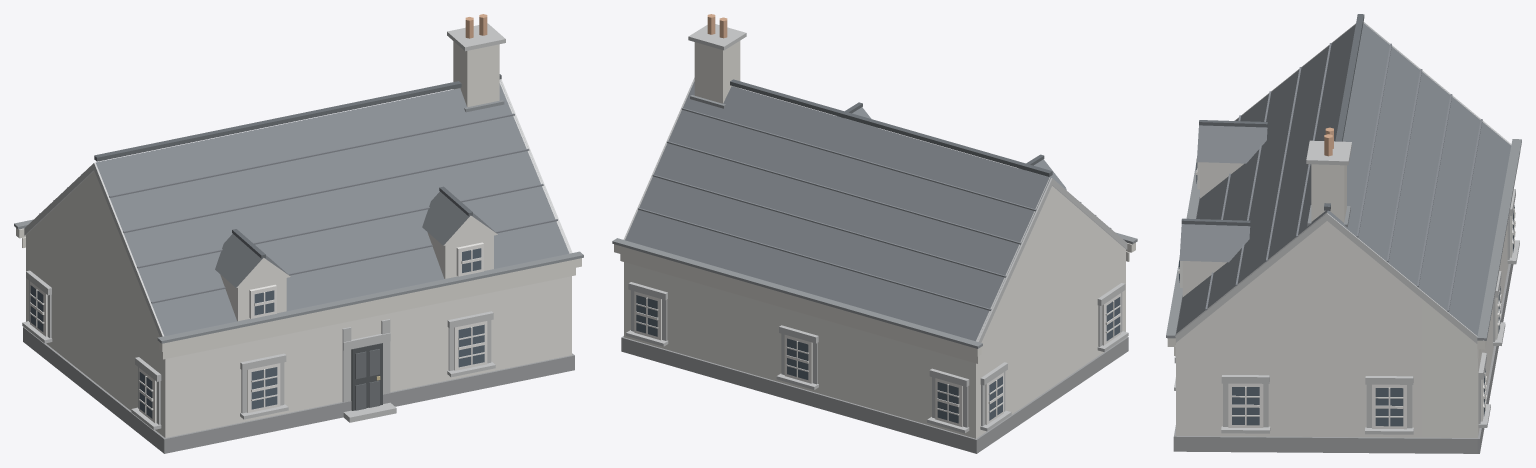
The picture shows the model from 3 angles, left to right: view 1: azimuth 30°, elevation 25°; view 2: azimuth 150°, elevation 25°; view 3: azimuth 270°, elevation 25°; orthographic projection. The views are drawn at different scales.
Parts seen in each view (by area): view 1: slate, harl, stone_band, plinth, string, slate_lt, frame, lead, slate_dk, chim_render, door_dark_p, door_dark (+2 smaller); view 2: slate, harl, plinth, stone_band, string, slate_lt, lead, frame, slate_dk, chim_render, window_glass_009, window_glass_008 (+1 smaller); view 3: slate, harl, stone_band, plinth, slate_lt, lead, frame, slate_dk, chim_render, window_glass_006, window_glass_005.
Part boxes in pixels (left/top/right/bottom): slate: left=95, top=80, right=569, bottom=336; harl: left=26, top=171, right=571, bottom=437; stone_band: left=22, top=23, right=572, bottom=429; plinth: left=23, top=327, right=574, bottom=453; string: left=16, top=228, right=581, bottom=359; slate_lt: left=39, top=113, right=557, bottom=303; frame: left=30, top=242, right=487, bottom=423; lead: left=14, top=100, right=583, bottom=343; slate_dk: left=94, top=74, right=501, bottom=258; chim_render: left=453, top=41, right=499, bottom=107; door_dark_p: left=355, top=349, right=379, bottom=410; door_dark: left=351, top=343, right=382, bottom=410; slate: left=625, top=81, right=1066, bottom=341; harl: left=624, top=186, right=1125, bottom=438; plinth: left=621, top=336, right=1128, bottom=453; stone_band: left=623, top=24, right=1128, bottom=433; string: left=614, top=242, right=1135, bottom=363; slate_lt: left=638, top=108, right=1111, bottom=310; lead: left=612, top=95, right=1137, bottom=348; frame: left=634, top=291, right=1120, bottom=426; slate_dk: left=730, top=79, right=1052, bottom=176; chim_render: left=694, top=41, right=740, bottom=103; window_glass_009: left=937, top=382, right=958, bottom=423; window_glass_008: left=787, top=338, right=808, bottom=379; slate: left=1176, top=23, right=1511, bottom=335; harl: left=1176, top=162, right=1508, bottom=437; stone_band: left=1174, top=22, right=1519, bottom=434; plinth: left=1173, top=264, right=1513, bottom=453; slate_lt: left=1205, top=43, right=1482, bottom=311; lead: left=1166, top=139, right=1521, bottom=340; frame: left=1178, top=158, right=1515, bottom=429; slate_dk: left=1181, top=14, right=1364, bottom=226; chim_render: left=1311, top=164, right=1346, bottom=222; window_glass_006: left=1375, top=388, right=1403, bottom=426; window_glass_005: left=1232, top=387, right=1259, bottom=425.
Size of the model in its own units: 13.19 by 9.28 by 9.73.
